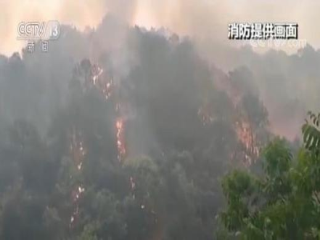fire: (229, 107, 266, 158), (111, 116, 137, 166)
smoke: (85, 3, 271, 102)
